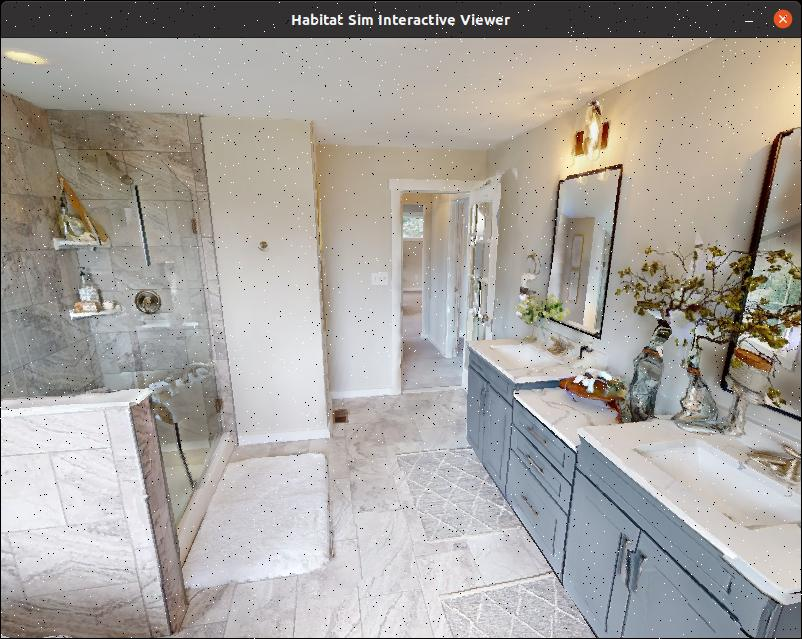door-frame: (387, 187, 489, 396)
sink: (585, 393, 802, 639), (467, 327, 576, 439)
toilet: (0, 85, 260, 564)
